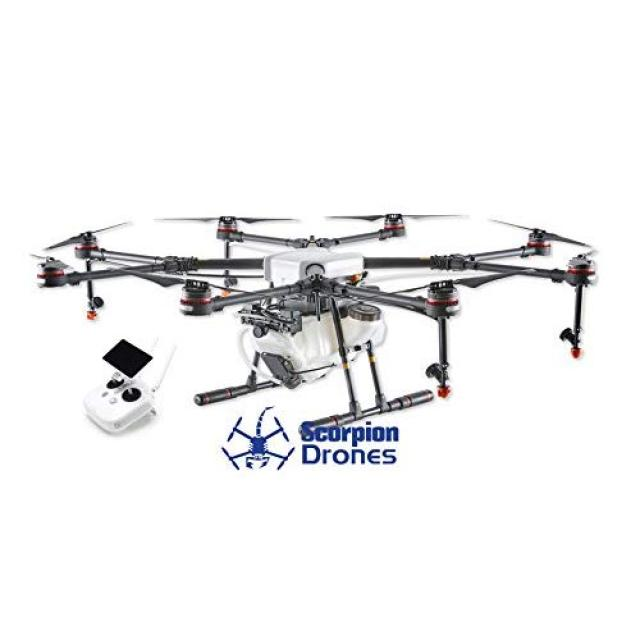drone: (26, 193, 617, 425)
